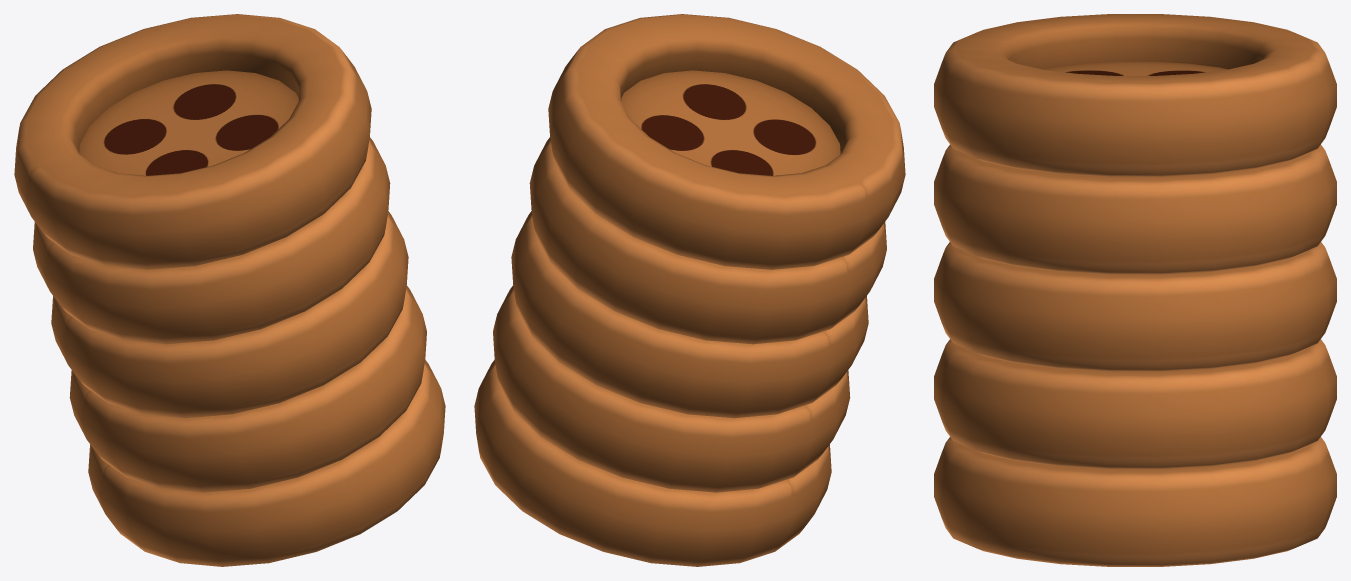
The model's file is khuy.fbx.
The picture shows the model from 3 angles, left to right: view 1: azimuth 30°, elevation 25°; view 2: azimuth 150°, elevation 25°; view 3: azimuth 270°, elevation 25°; orthographic projection. The views are drawn at different scales.
Visible parts, largest first — view 1: Cylinder.005, Cylinder.001, Cylinder.004, Cylinder.002, Cylinder.003; view 2: Cylinder.005, Cylinder.001, Cylinder.004, Cylinder.002, Cylinder.003; view 3: Cylinder.005, Cylinder.002, Cylinder.004, Cylinder.001, Cylinder.003.
Boxes of the visible parts, x1,y1,x2,y2 form: Cylinder.005: [14, 14, 371, 269]; Cylinder.001: [88, 360, 445, 566]; Cylinder.004: [33, 137, 390, 344]; Cylinder.002: [69, 285, 426, 492]; Cylinder.003: [51, 211, 408, 418]; Cylinder.005: [548, 14, 905, 269]; Cylinder.001: [474, 360, 831, 566]; Cylinder.004: [529, 137, 886, 344]; Cylinder.002: [493, 285, 850, 492]; Cylinder.003: [511, 211, 868, 418]; Cylinder.005: [934, 14, 1336, 176]; Cylinder.002: [934, 339, 1336, 469]; Cylinder.004: [934, 144, 1336, 274]; Cylinder.001: [934, 437, 1336, 566]; Cylinder.003: [934, 242, 1336, 371].
Size of the model in its own units: 101 by 116 by 83.05.
